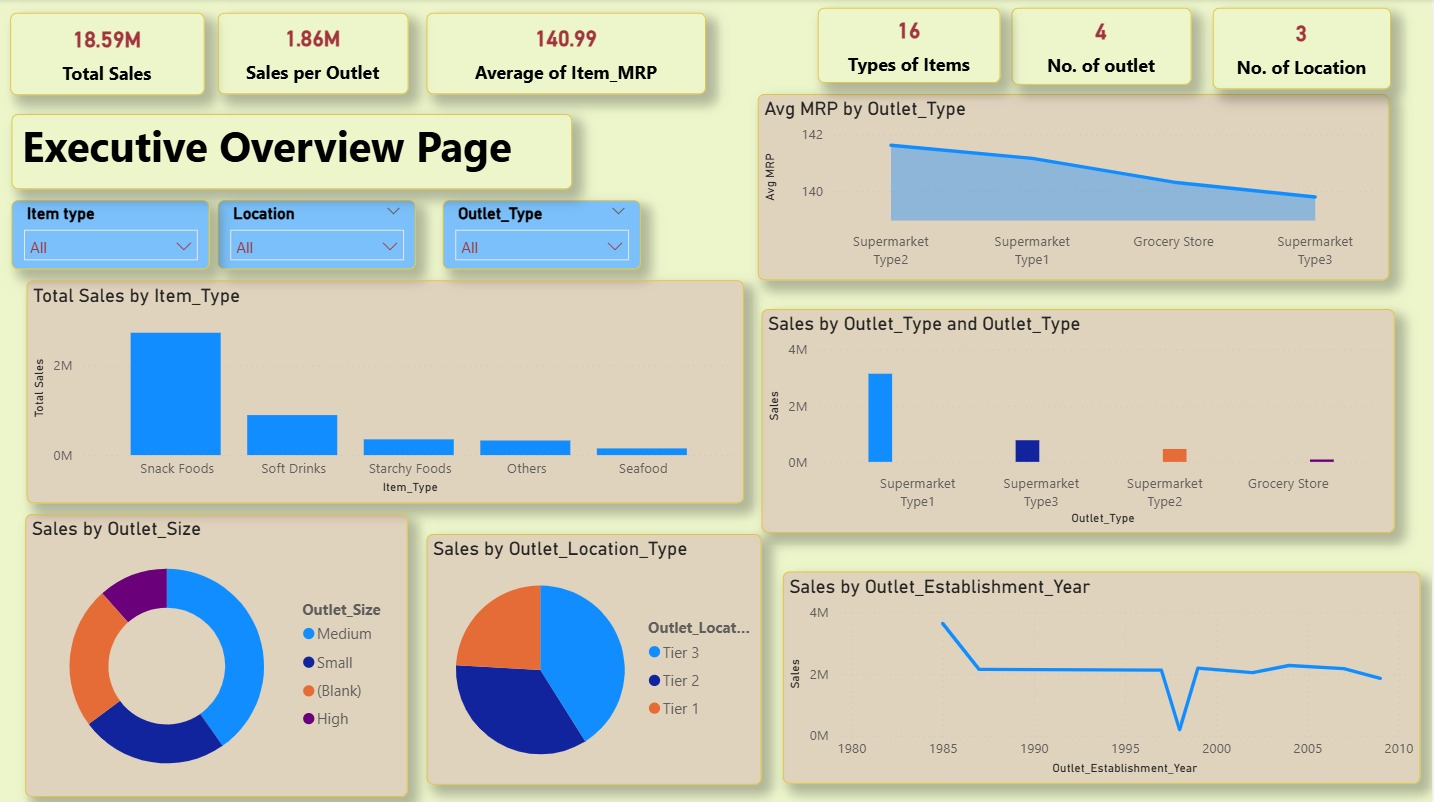

The dashboard page shown, as its layout file describes it:
{"tool":"powerbi","page":{"name":"Page 1","canvas":[1280,720],"ordinal":0},"visuals":[{"type":"card","fields":{"Values":["Measures (2).Total Sales"]},"box":[10.5,12.8,173.3,73.3],"z":0},{"type":"card","fields":{"Values":["Measures (2).Sales per Outlet"]},"box":[194.9,12.3,170.2,72.7],"z":1000},{"type":"card","fields":{"Values":["Avg(Raw_Blinkit_Data.Item_MRP)"]},"box":[381.5,12.3,249.7,72.7],"z":2000},{"type":"slicer","fields":{"Values":["Dim_outlet.Outlet_Type"]},"box":[396.6,179.8,177,61.7],"z":3000},{"type":"slicer","fields":{"Values":["Dim_outlet.Outlet_Location_Type"]},"box":[194.9,179.8,177,61.7],"z":4000},{"type":"slicer","fields":{"Values":["Dim_product.Item_Type"]},"box":[11,179.8,177,61.7],"z":5000},{"type":"clusteredColumnChart","fields":{"Y":["Measures (2).Total Sales"],"Category":["Dim_product.Item_Type"]},"box":[24.7,251.1,640.8,199],"z":6000},{"type":"lineChart","fields":{"Y":["Measures (2).Total Sales"],"Category":["Dim_outlet.Outlet_Establishment_Year"]},"box":[699.8,511.8,569.5,189.4],"z":7000},{"type":"clusteredColumnChart","fields":{"Y":["Measures (2).Total Sales"],"Category":["Dim_outlet.Outlet_Type"],"Series":["Dim_outlet.Outlet_Type"]},"box":[680.6,277.2,565.4,200.3],"z":8000},{"type":"donutChart","fields":{"Y":["Measures (2).Total Sales"],"Category":["Dim_outlet.Outlet_Size"]},"box":[23.3,459.7,341.7,252.5],"z":9000},{"type":"pieChart","fields":{"Category":["Dim_outlet.Outlet_Location_Type"],"Y":["Measures (2).Total Sales"]},"box":[381.5,477.5,299.1,223.7],"z":10000},{"type":"areaChart","fields":{"Category":["Dim_outlet.Outlet_Type"],"Y":["Measures (2).Avg MRP by Outlet"]},"box":[677.9,85.1,564,166],"z":11000},{"type":"card","fields":{"Values":["Count(Dim_outlet.Outlet_Type)"]},"box":[904.3,8.2,160.5,68.6],"z":12000},{"type":"card","fields":{"Values":["Count(Dim_outlet.Outlet_Location_Type)"]},"box":[1084.1,8.2,159.2,72.7],"z":13000},{"type":"card","fields":{"Values":["Count(Dim_product.Item_Type)"]},"box":[731,8.2,163.3,67],"z":14000},{"type":"textbox","box":[11,102.9,500.9,67.2],"z":15000}]}

Visuals, with their boxes in screenshot pixels (x1, y1, x2, y2), scaled from the page's 1280x720 canvas onto the 1434x802 screenshot:
card - Measures (2).Total Sales: crop(12, 14, 206, 96)
card - Measures (2).Sales per Outlet: crop(218, 14, 409, 95)
card - Avg(Raw_Blinkit_Data.Item_MRP): crop(427, 14, 707, 95)
slicer - Dim_outlet.Outlet_Type: crop(444, 200, 643, 269)
slicer - Dim_outlet.Outlet_Location_Type: crop(218, 200, 417, 269)
slicer - Dim_product.Item_Type: crop(12, 200, 211, 269)
clusteredColumnChart - Measures (2).Total Sales x Dim_product.Item_Type: crop(28, 280, 746, 501)
lineChart - Measures (2).Total Sales x Dim_outlet.Outlet_Establishment_Year: crop(784, 570, 1422, 781)
clusteredColumnChart - Measures (2).Total Sales x Dim_outlet.Outlet_Type: crop(762, 309, 1396, 532)
donutChart - Measures (2).Total Sales x Dim_outlet.Outlet_Size: crop(26, 512, 409, 793)
pieChart - Dim_outlet.Outlet_Location_Type x Measures (2).Total Sales: crop(427, 532, 762, 781)
areaChart - Dim_outlet.Outlet_Type x Measures (2).Avg MRP by Outlet: crop(759, 95, 1391, 280)
card - Count(Dim_outlet.Outlet_Type): crop(1013, 9, 1193, 86)
card - Count(Dim_outlet.Outlet_Location_Type): crop(1215, 9, 1393, 90)
card - Count(Dim_product.Item_Type): crop(819, 9, 1002, 84)
textbox: crop(12, 115, 573, 189)
